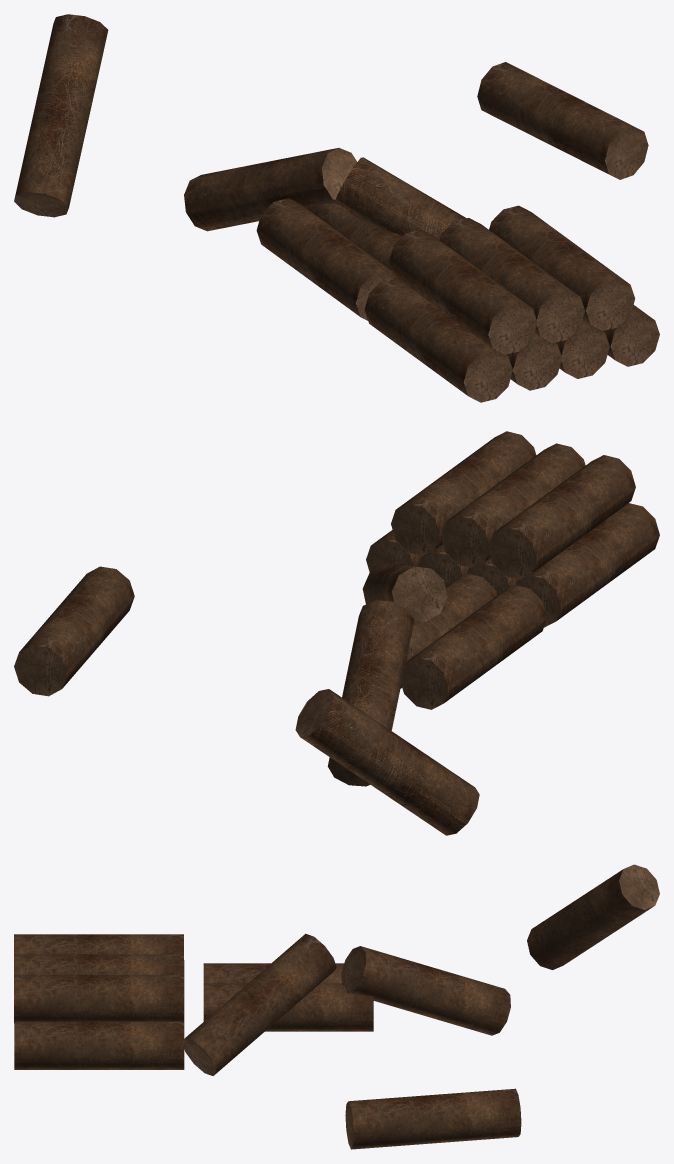
File: Lenyos.obj
The picture shows the model from 3 angles, top to bottom: view 1: azimuth 30°, elevation 25°; view 2: azimuth 150°, elevation 25°; view 3: azimuth 270°, elevation 25°; orthographic projection. The views are drawn at different scales.
Parts seen in each view (by area): view 1: Cylinder043, Cylinder044, Cylinder036, Cylinder032, Cylinder042, Cylinder039, Cylinder038, Cylinder037, Cylinder041, Cylinder040, Cylinder035, Cylinder034 (+1 smaller); view 2: Cylinder043, Cylinder036, Cylinder039, Cylinder044, Cylinder032, Cylinder038, Cylinder042, Cylinder037, Cylinder041, Cylinder040, Cylinder035, Cylinder034 (+1 smaller); view 3: Cylinder044, Cylinder035, Cylinder041, Cylinder042, Cylinder038, Cylinder043, Cylinder040, Cylinder036, Cylinder037, Cylinder039.
Boxes of the visible parts, x1,y1,x2,y2 form: Cylinder043: [14, 14, 108, 217]; Cylinder044: [477, 62, 648, 179]; Cylinder036: [389, 229, 537, 354]; Cylinder032: [364, 277, 512, 402]; Cylinder042: [184, 148, 356, 231]; Cylinder039: [256, 198, 395, 320]; Cylinder038: [489, 205, 635, 330]; Cylinder037: [439, 218, 584, 342]; Cylinder041: [334, 157, 466, 239]; Cylinder040: [307, 203, 403, 270]; Cylinder035: [603, 304, 659, 366]; Cylinder034: [556, 319, 609, 378]; Cylinder043: [295, 689, 479, 835]; Cylinder036: [488, 455, 635, 579]; Cylinder039: [401, 585, 547, 709]; Cylinder044: [14, 566, 134, 696]; Cylinder032: [515, 503, 659, 627]; Cylinder038: [391, 431, 536, 555]; Cylinder042: [327, 600, 414, 786]; Cylinder037: [441, 443, 585, 567]; Cylinder041: [362, 564, 447, 621]; Cylinder040: [400, 573, 496, 688]; Cylinder035: [366, 530, 422, 572]; Cylinder034: [417, 544, 469, 586]; Cylinder044: [345, 1088, 521, 1149]; Cylinder035: [14, 1021, 184, 1069]; Cylinder041: [184, 933, 336, 1075]; Cylinder042: [341, 946, 510, 1035]; Cylinder038: [14, 975, 183, 1023]; Cylinder043: [527, 864, 659, 969]; Cylinder040: [203, 983, 373, 1031]; Cylinder036: [14, 934, 183, 954]; Cylinder037: [14, 954, 183, 974]; Cylinder039: [203, 963, 344, 983].
Size of the model in its own units: 39.38 by 12.21 by 49.97.
Materials: 1 (1 with a texture image).
